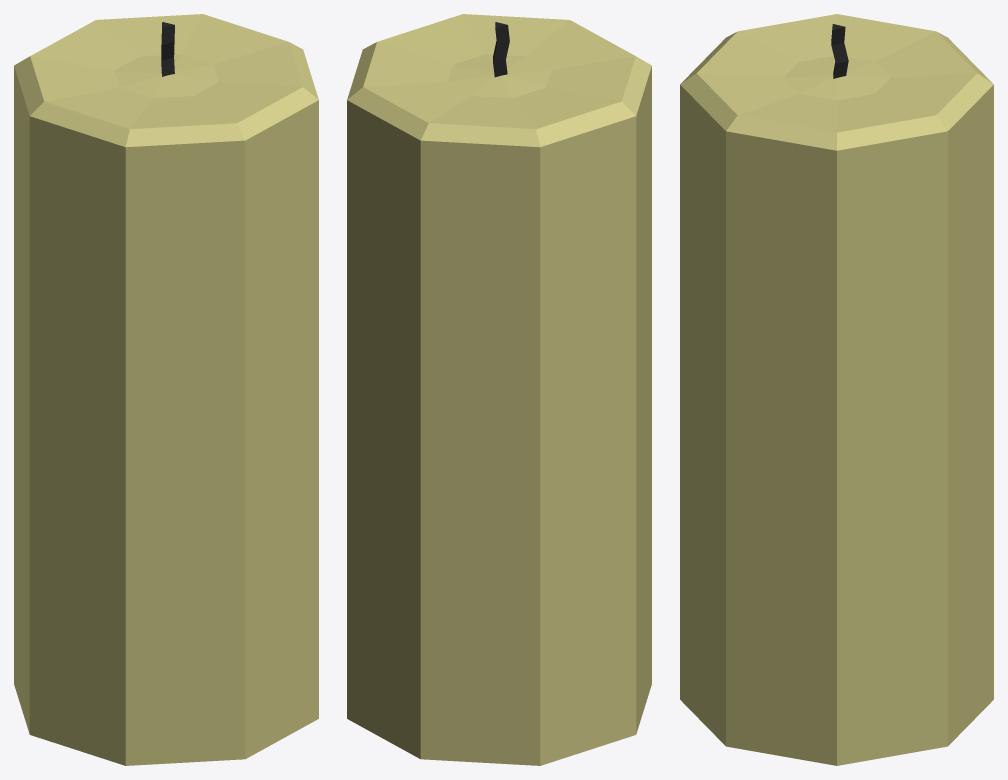
Rendered from candle_2_mat.fbx.
3 views of the same model, side by side, from view 1: azimuth 30°, elevation 25°; view 2: azimuth 150°, elevation 25°; view 3: azimuth 270°, elevation 25° (orthographic).
Parts seen in each view (by area): view 1: candle_2_mat; view 2: candle_2_mat; view 3: candle_2_mat.
Boxes of the visible parts, x1,y1,x2,y2 form: candle_2_mat: (14, 14, 318, 765); candle_2_mat: (347, 14, 651, 765); candle_2_mat: (680, 14, 993, 765).
Size of the model in its own units: 54.34 by 129 by 54.34.
